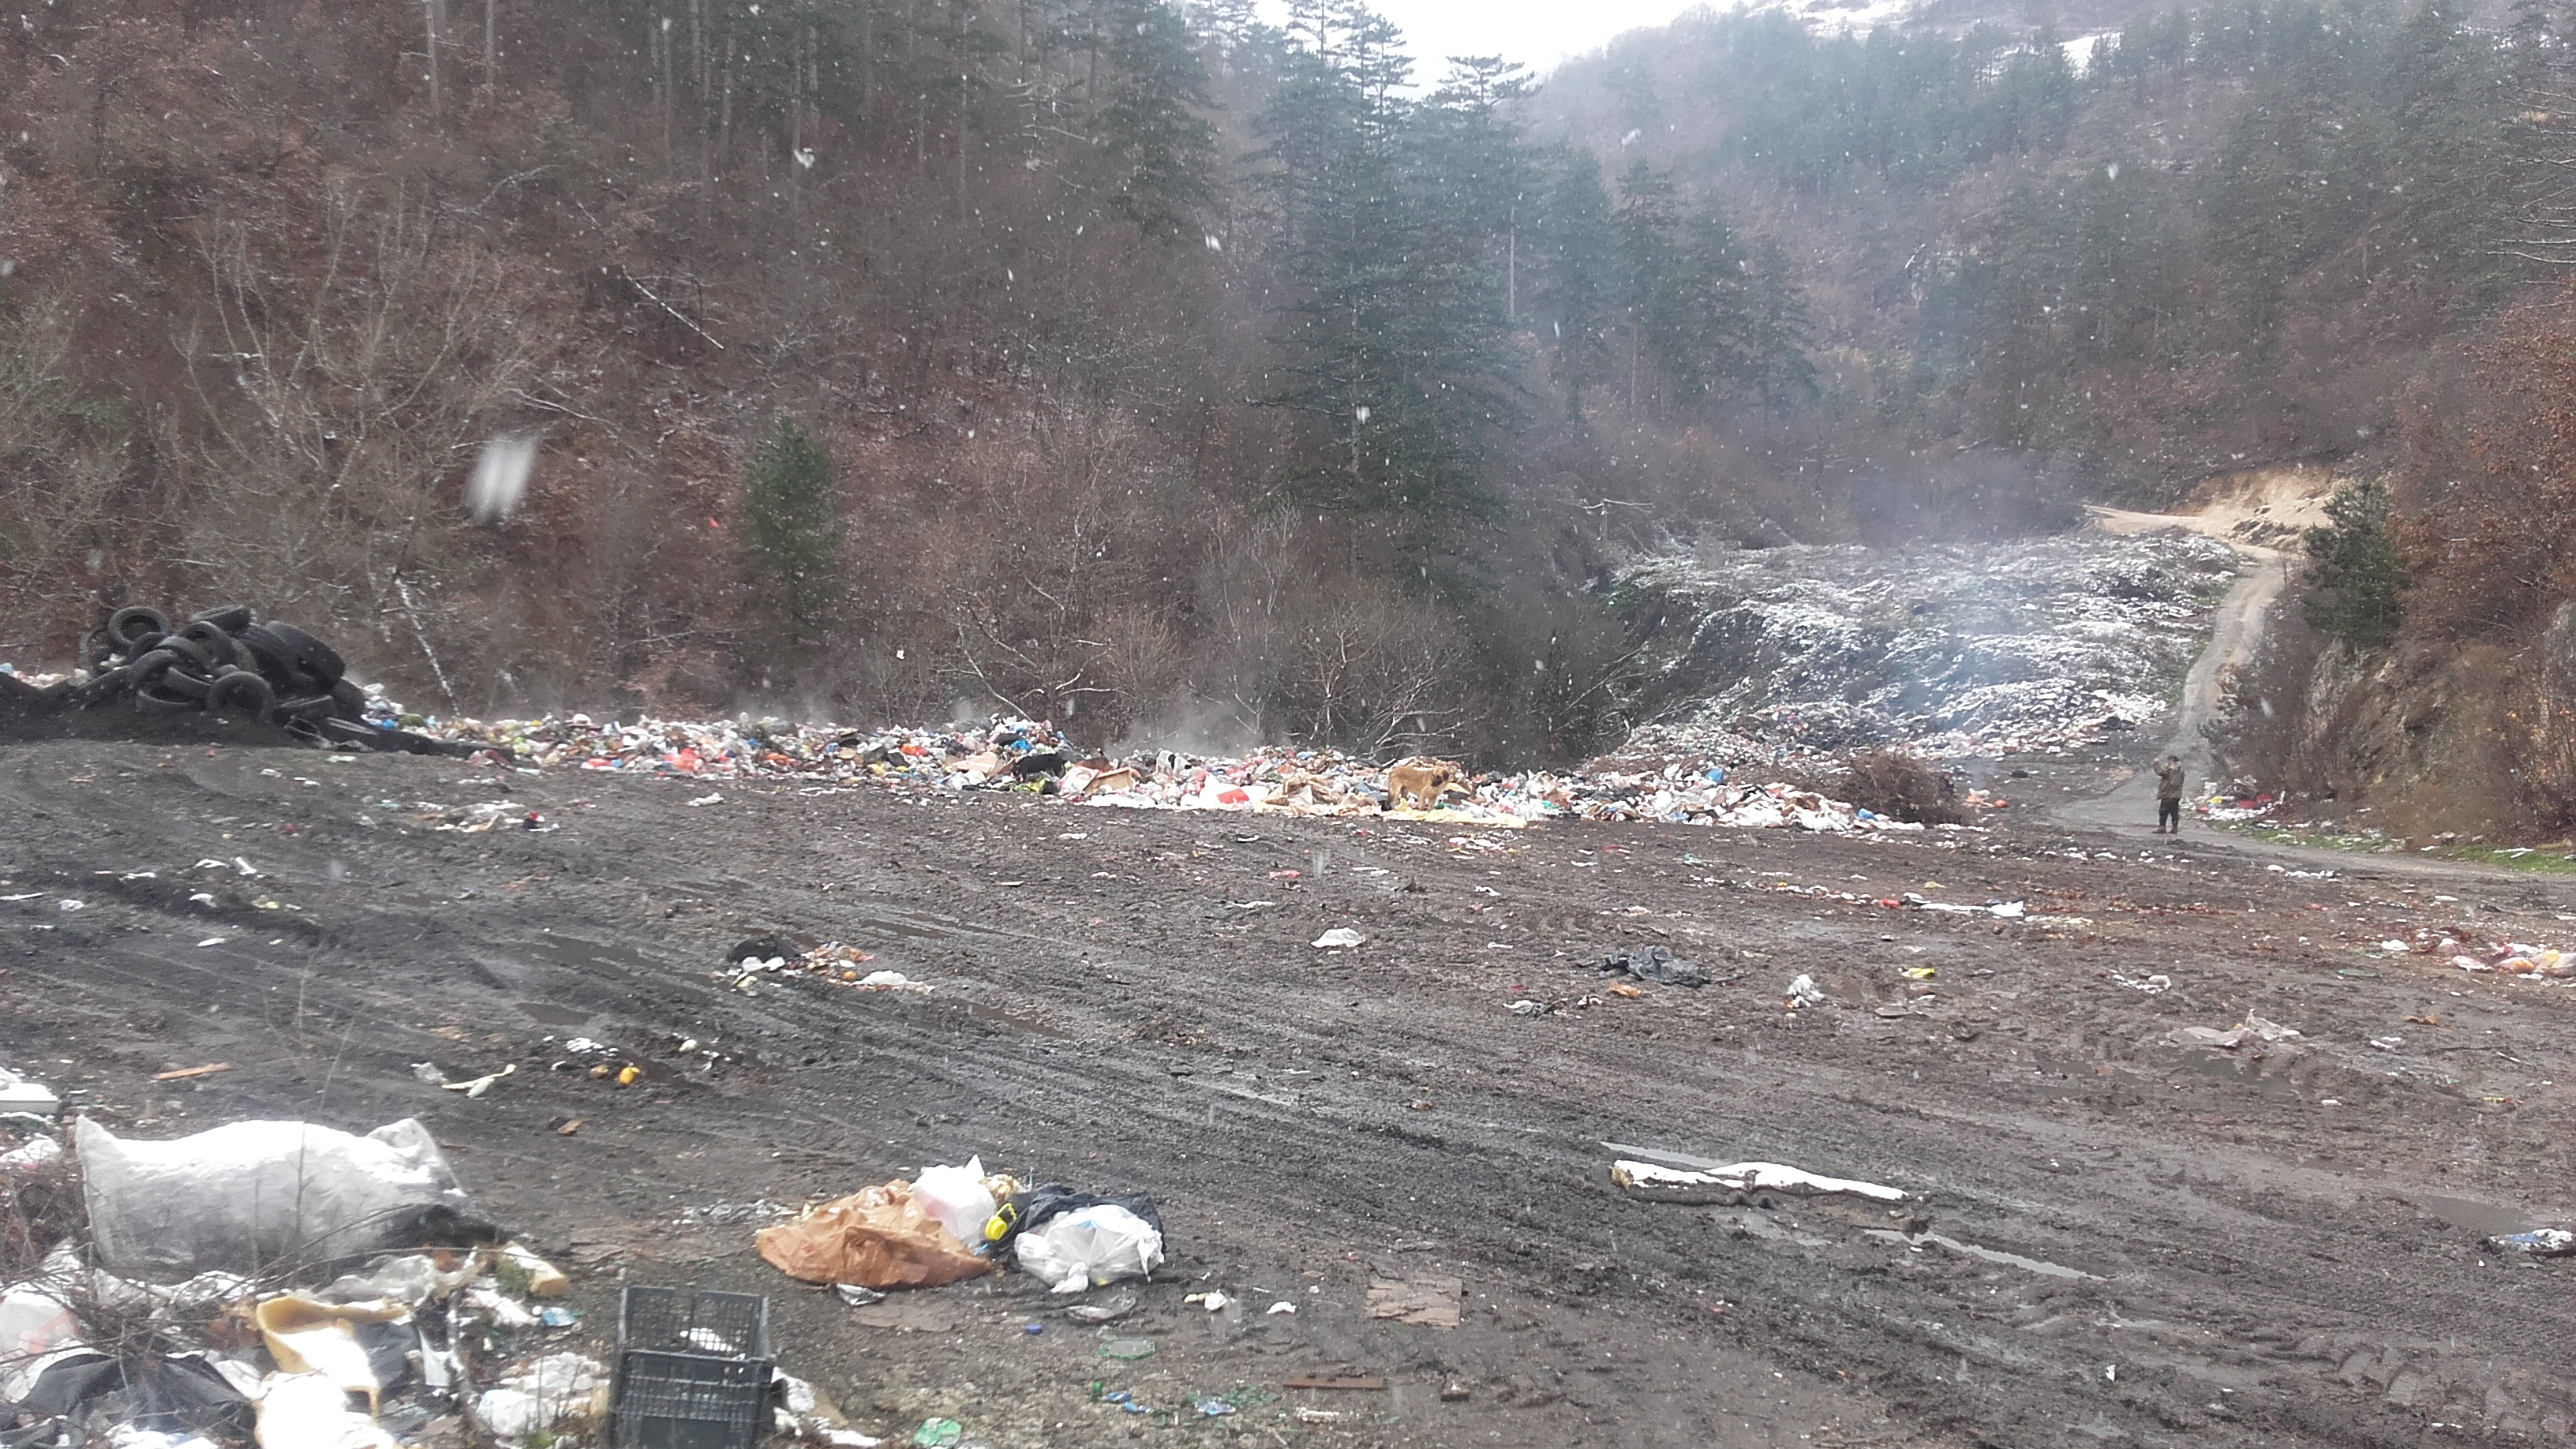trash: (0, 1095, 1171, 1449), (359, 665, 2001, 883), (1591, 495, 2284, 832), (1624, 1143, 1909, 1210)
